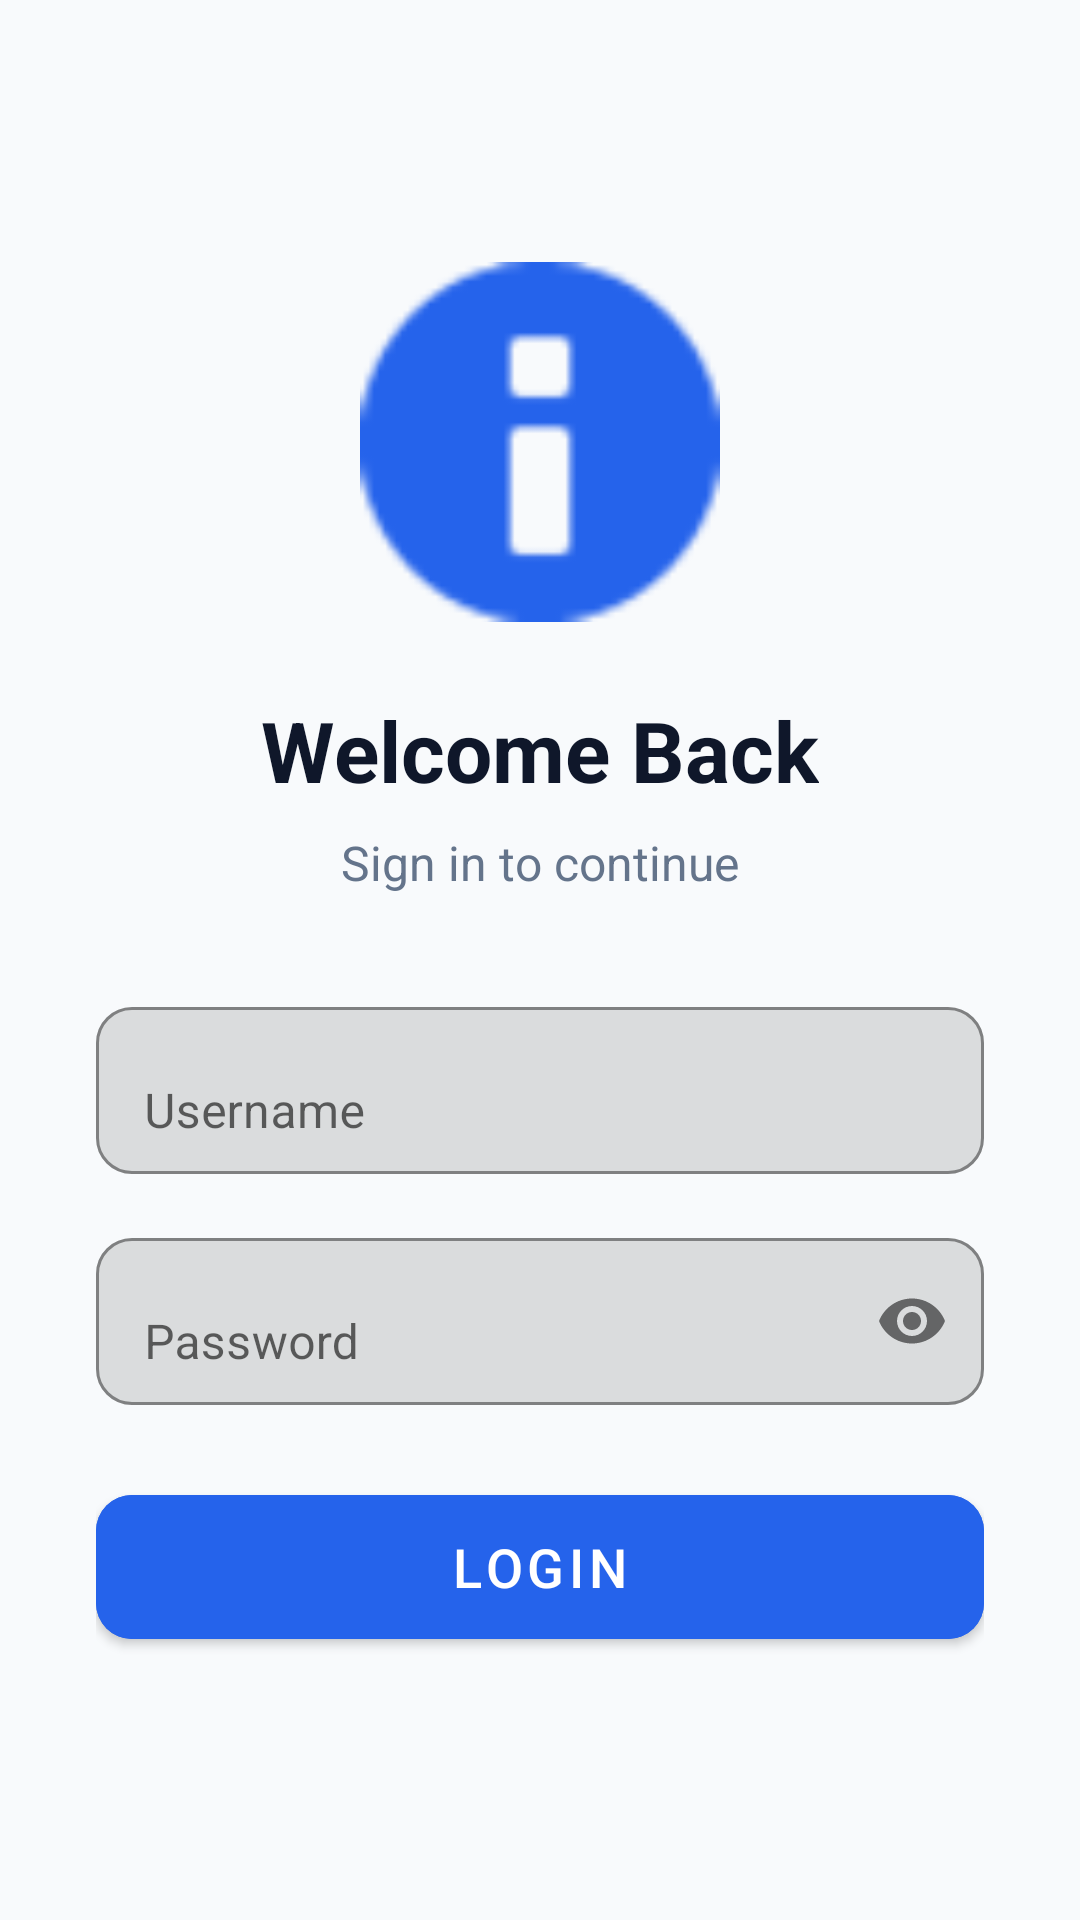

Named icons in this screenshot (1080px×1920px) and their bounding boxes, (x1,y1,x2,y2):
info: (360,262,720,622)
